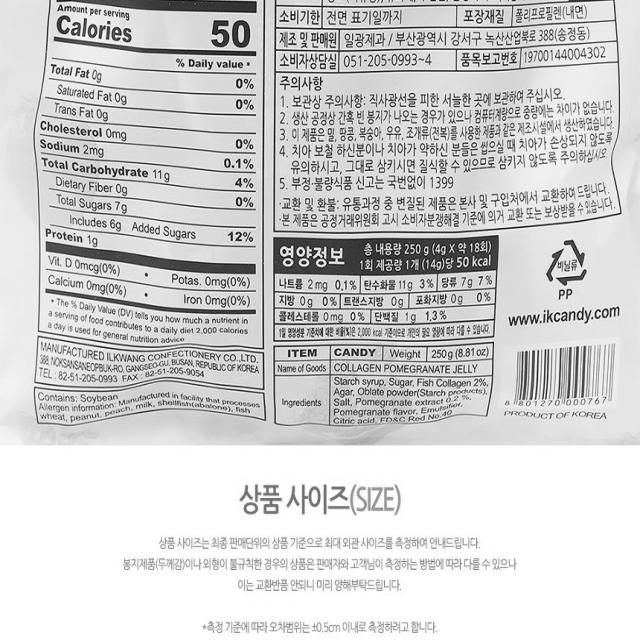Nutrition Label: (260, 231, 503, 348)
